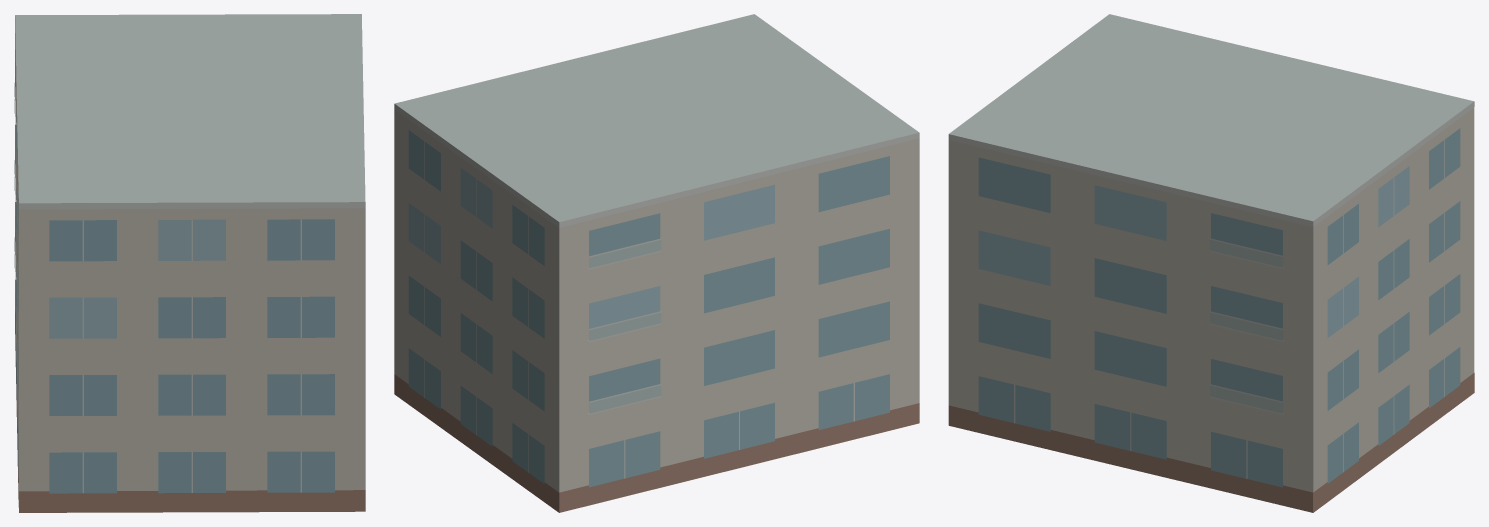
The model's file is residential-2508f5f0-a190-45a8-a5c4-803db0214f56.glb.
3 views of the same model, side by side, from view 1: azimuth 30°, elevation 25°; view 2: azimuth 150°, elevation 25°; view 3: azimuth 270°, elevation 25° (orthographic). The views are drawn at different scales.
Visible parts, largest first — view 1: residential-2508f5f0-a190-45a8-a5c4-803db0214f56.tmp; view 2: residential-2508f5f0-a190-45a8-a5c4-803db0214f56.tmp; view 3: residential-2508f5f0-a190-45a8-a5c4-803db0214f56.tmp.
Part boxes in pixels (x1=…): residential-2508f5f0-a190-45a8-a5c4-803db0214f56.tmp: x1=14, y1=14, x2=365, y2=512; residential-2508f5f0-a190-45a8-a5c4-803db0214f56.tmp: x1=394, y1=14, x2=919, y2=512; residential-2508f5f0-a190-45a8-a5c4-803db0214f56.tmp: x1=948, y1=14, x2=1474, y2=512.
Bounding box in the file's own units: 18.61 × 12.2 × 19.95.
